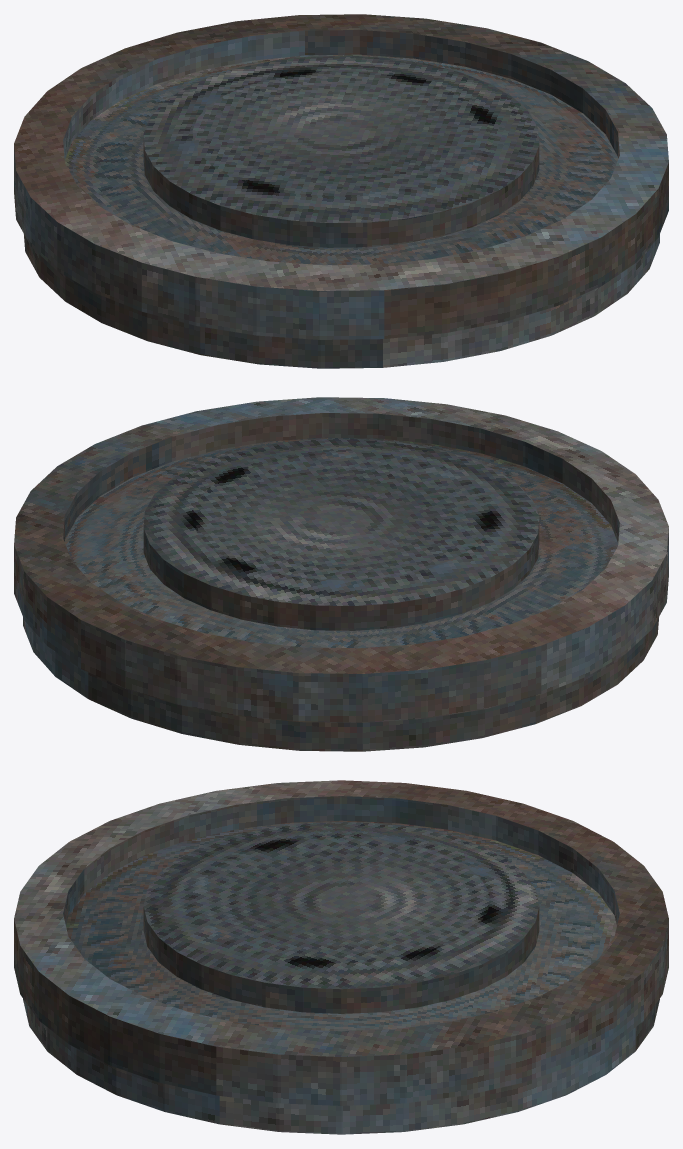
File: dungeon_enter_door.glb
3 renders of one model, top to bottom at view 1: azimuth 30°, elevation 25°; view 2: azimuth 150°, elevation 25°; view 3: azimuth 270°, elevation 25°, orthographic.
Parts seen in each view (by area): view 1: dungeon_enter_door; view 2: dungeon_enter_door; view 3: dungeon_enter_door.
Boxes of the visible parts, box(x1,y1,x2,y2) form: dungeon_enter_door: box(14, 14, 668, 368); dungeon_enter_door: box(14, 397, 668, 751); dungeon_enter_door: box(14, 780, 668, 1134).
Bounding box in the file's own units: 2.99 × 0.5024 × 2.99.
Materials: 1 (1 with a texture image).
